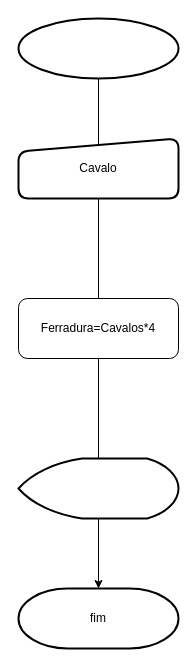
Some shapes in this 196 by 666 pixel diagram are drawn without their labels. The centre of each missing label's shape, as x and y in pixels:
"Ferradura" goes at (x=98, y=488).
"inicio" goes at (x=98, y=48).
